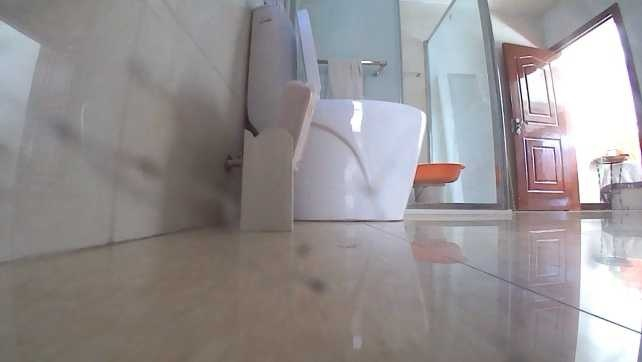toilet: (235, 3, 429, 222)
